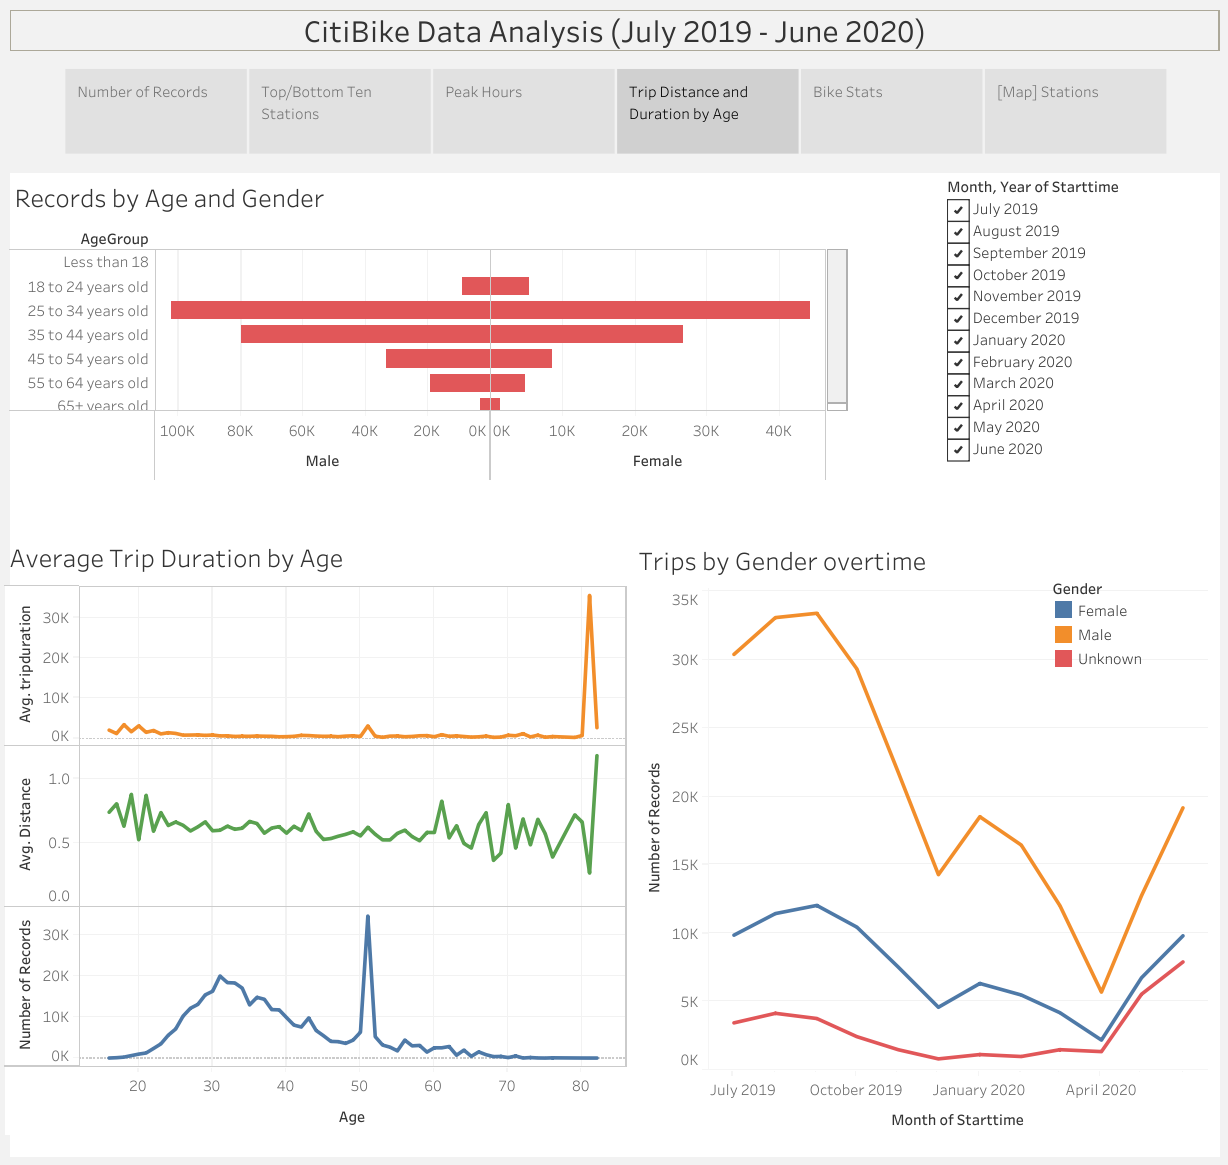

What the dashboard file says about the page in this screenshot:
{"tool":"tableau","page":{"name":"Trip Distribution by Age and Gender","canvas":[1000,1000],"units":"permille","ordinal":5},"visuals":[{"type":"worksheet","title":"Records by Age and Gender","mark":"Automatic","rows":["Calculation_2171298008304680965"],"cols":["Calculation_2171298008306610186","Calculation_2171298008306565129"],"box":[2.8,8.2,820.8,331.4]},{"type":"filter","title":"Records by Age and Gender","param":"[federated.06t6mmk1ta8xqx1g6an2d0cdsx3z].[my:starttime:ok]","box":[841.5,9.3,150.9,325.6]},{"type":"worksheet","title":"Trip Analysis by Age","mark":"Automatic","rows":["tripduration","Calculation_2171298008310095884","Calculation_2171298008309485579"],"cols":["Calculation_2171298008304807942"],"box":[3.8,375.7,500,620.8]},{"type":"worksheet","title":"Trips by Gender overtime","mark":"Automatic","rows":["Calculation_2171298008309485579"],"cols":["starttime"],"box":[510.4,424.7,477.4,571.8]},{"type":"legend","title":"Trips by Gender overtime","param":"[federated.06t6mmk1ta8xqx1g6an2d0cdsx3z].[none:Calculation_2171298008305410056:n","box":[789.6,430.6,132.1,92.2]}]}

Visuals, with their boxes on the dashboard's canvas, which has no fixed pixel size, in thousandths of its width and height (x1, y1, x2, y2). These are canvas units, not pixel positions in the 1228x1165 screenshot, which may show the page scaled, cropped or inside an application window:
"Records by Age and Gender" worksheet: (3,8,824,340)
"Records by Age and Gender" filter: (842,9,992,335)
"Trip Analysis by Age" worksheet: (4,376,504,996)
"Trips by Gender overtime" worksheet: (510,425,988,996)
"Trips by Gender overtime" legend: (790,431,922,523)
